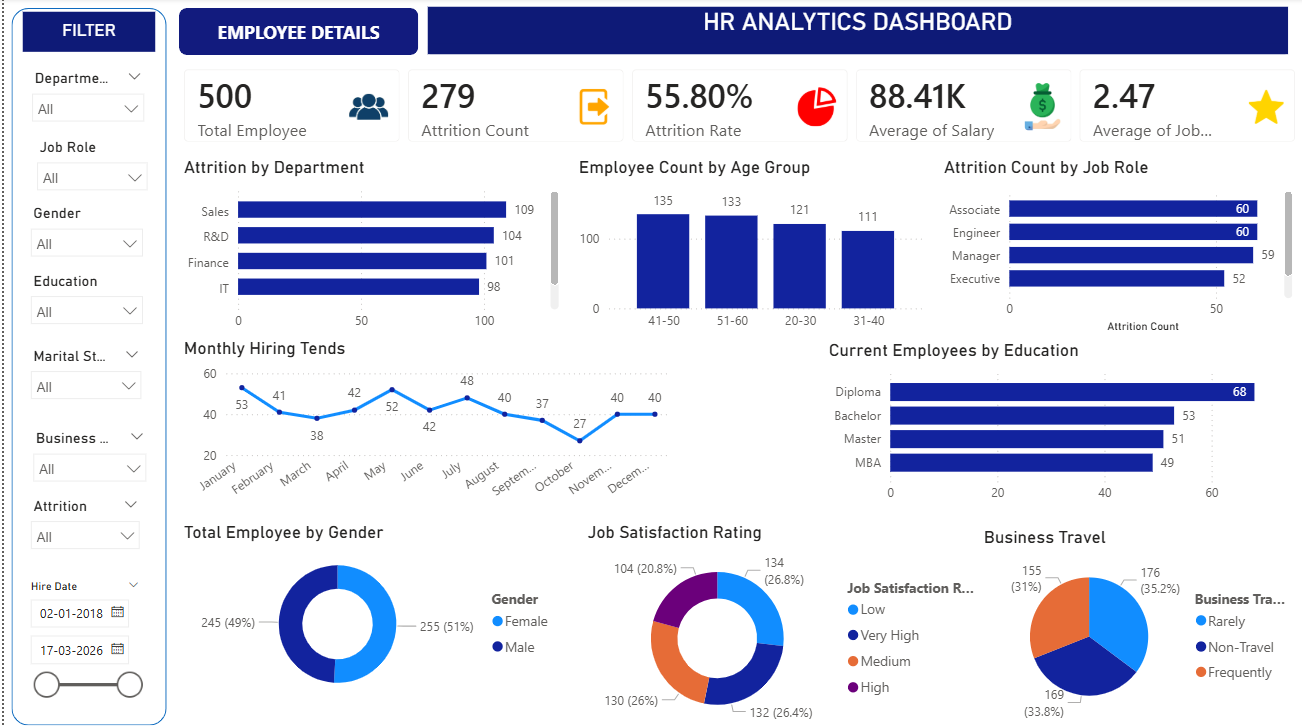

The dashboard page shown, as its layout file describes it:
{"tool":"powerbi","page":{"name":"DASHBOARD","canvas":[1280,720],"ordinal":0},"visuals":[{"type":"shape","title":"HR ANALYTICS DASHBOARD","box":[414.5,9,841.3,46.5],"z":0},{"type":"shape","box":[7.3,9.8,151.6,701.9],"z":1000},{"type":"cardVisual","fields":{"Data":["HR Data.Total Employee","HR Data.Attribution Count","HR Data.Attrition Rate","Avg(HR Data.Salary)","Avg(HR Data.Job Satisfaction)"]},"box":[171.2,64.8,1099.3,81.9],"z":2000},{"type":"clusteredBarChart","fields":{"Category":["HR Data.Department"],"Y":["CountNonNull(HR Data.Attrition)"]},"box":[171.2,155.3,376.6,178.5],"z":3000},{"type":"clusteredColumnChart","fields":{"Category":["HR Data.Age Group"],"Y":["Count(HR Data.Employee ID)"]},"box":[557.6,155.3,347.3,178.5],"z":4000},{"type":"donutChart","fields":{"Category":["HR Data.Gender"],"Y":["HR Data.Total Employee"]},"box":[171.2,512.4,376.6,179.8],"z":5000},{"type":"lineChart","title":" Monthly Hiring Tends","fields":{"Category":["Custome Date.Custom Date.Variation.Date Hierarchy.Month"],"Y":["HR Data.Total Employee"]},"box":[171.2,332.6,485.5,168.8],"z":6000},{"type":"donutChart","title":"Job Satisfaction Rating","fields":{"Category":["HR Data.Job Satisfaction Rating"],"Y":["HR Data.Total Employee"]},"box":[566.2,512.4,387.6,207.9],"z":7000},{"type":"pieChart","title":" Business Travel","fields":{"Category":["HR Data.Business Travel"],"Y":["CountNonNull(HR Data.Business Travel)"]},"box":[953.8,517.3,311.8,194.4],"z":8000},{"type":"textbox","title":"FILTER","box":[18.3,14,129.6,39.1],"z":9000},{"type":"slicer","fields":{"Values":["HR Data.Department"]},"box":[17.1,64.8,129.6,67.3],"z":10000},{"type":"slicer","fields":{"Values":["HR Data.Job Role"]},"box":[22,132.1,128.4,64.8],"z":11000},{"type":"slicer","fields":{"Values":["HR Data.Gender"]},"box":[15.9,196.9,129.6,66],"z":12000},{"type":"slicer","fields":{"Values":["HR Data.Education"]},"box":[15.9,262.9,129.6,73.4],"z":13000},{"type":"slicer","fields":{"Values":["HR Data.Marital Status"]},"box":[15.9,336.3,128.4,62.4],"z":14000},{"type":"slicer","fields":{"Values":["HR Data.Business Travel"]},"box":[18.3,417,130.8,57.5],"z":15000},{"type":"slicer","fields":{"Values":["HR Data.Attrition"]},"box":[15.9,483,127.2,67.3],"z":16000},{"type":"slicer","fields":{"Values":["HR Data.Hire Date"]},"box":[13.5,563.7,130.8,128.4],"z":17000},{"type":"barChart","title":"Attrition  Count by Job Role","fields":{"Category":["HR Data.Job Role"],"Y":["HR Data.Attrition Count"]},"box":[914.7,155.3,351,177.3],"z":18000},{"type":"pageNavigator","box":[171.2,9.8,234.8,46.5],"z":19000},{"type":"barChart","fields":{"Category":["HR Data.Education"],"Y":["HR Data.Current Employees"]},"box":[802.2,333.8,453.7,168.8],"z":20000}]}

Visuals, with their boxes in screenshot pixels (x1, y1, x2, y2), scaled from the page's 1280x720 canvas onto the 1302x727 screenshot:
"HR ANALYTICS DASHBOARD" shape: detection(422, 9, 1277, 56)
shape: detection(7, 10, 162, 719)
cardVisual - HR Data.Total Employee x HR Data.Attribution Count: detection(174, 65, 1292, 148)
clusteredBarChart - HR Data.Department x CountNonNull(HR Data.Attrition): detection(174, 157, 557, 337)
clusteredColumnChart - HR Data.Age Group x Count(HR Data.Employee ID): detection(567, 157, 920, 337)
donutChart - HR Data.Gender x HR Data.Total Employee: detection(174, 517, 557, 699)
" Monthly Hiring Tends" lineChart: detection(174, 336, 668, 506)
"Job Satisfaction Rating" donutChart: detection(576, 517, 970, 726)
" Business Travel" pieChart: detection(970, 522, 1287, 719)
"FILTER" textbox: detection(19, 14, 150, 54)
slicer - HR Data.Department: detection(17, 65, 149, 133)
slicer - HR Data.Job Role: detection(22, 133, 153, 199)
slicer - HR Data.Gender: detection(16, 199, 148, 265)
slicer - HR Data.Education: detection(16, 265, 148, 340)
slicer - HR Data.Marital Status: detection(16, 340, 147, 403)
slicer - HR Data.Business Travel: detection(19, 421, 152, 479)
slicer - HR Data.Attrition: detection(16, 488, 146, 556)
slicer - HR Data.Hire Date: detection(14, 569, 147, 699)
"Attrition  Count by Job Role" barChart: detection(930, 157, 1287, 336)
pageNavigator: detection(174, 10, 413, 57)
barChart - HR Data.Education x HR Data.Current Employees: detection(816, 337, 1277, 507)
